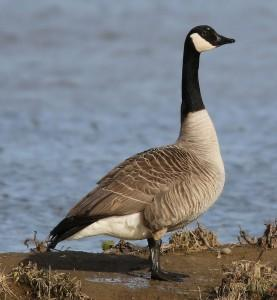Canadian-Goose: (49, 25, 238, 285)
